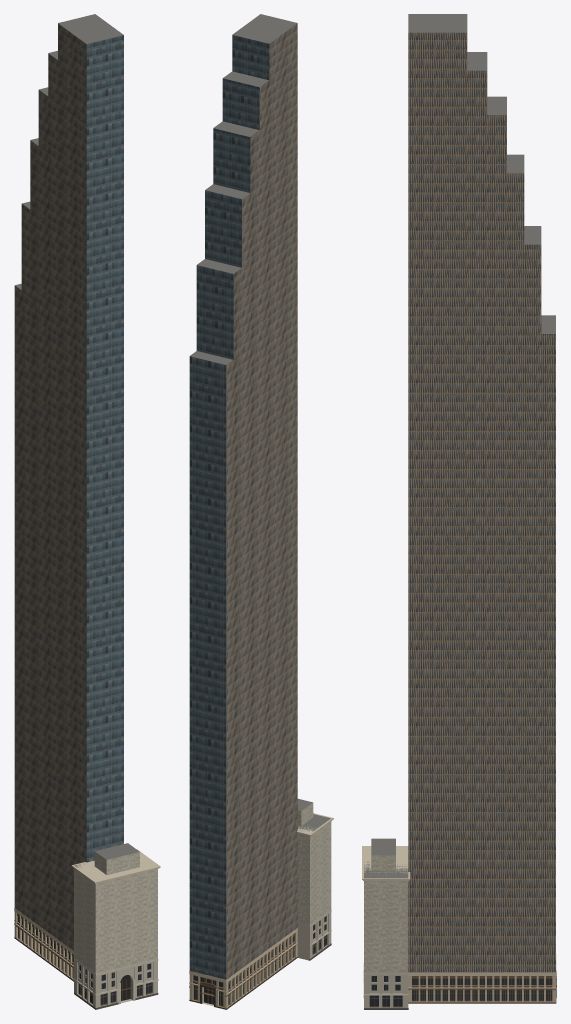
File: steinway_tower.glb
The picture shows the model from 3 angles, left to right: view 1: azimuth 30°, elevation 25°; view 2: azimuth 150°, elevation 25°; view 3: azimuth 270°, elevation 25°; orthographic projection. The views are drawn at different scales.
Visible parts, largest first — view 1: steinway_tower; view 2: steinway_tower; view 3: steinway_tower.
Part boxes in pixels (x1,y1,x2,y2): steinway_tower: [14, 14, 160, 1009]; steinway_tower: [189, 14, 333, 1009]; steinway_tower: [362, 14, 556, 1009].
Bounding box in the file's own units: 31.6 × 435 × 79.07.
Materials: 4 (4 with a texture image).
